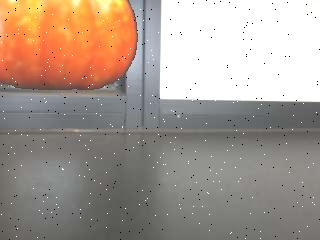Pumpkin: (0, 0, 140, 91)
